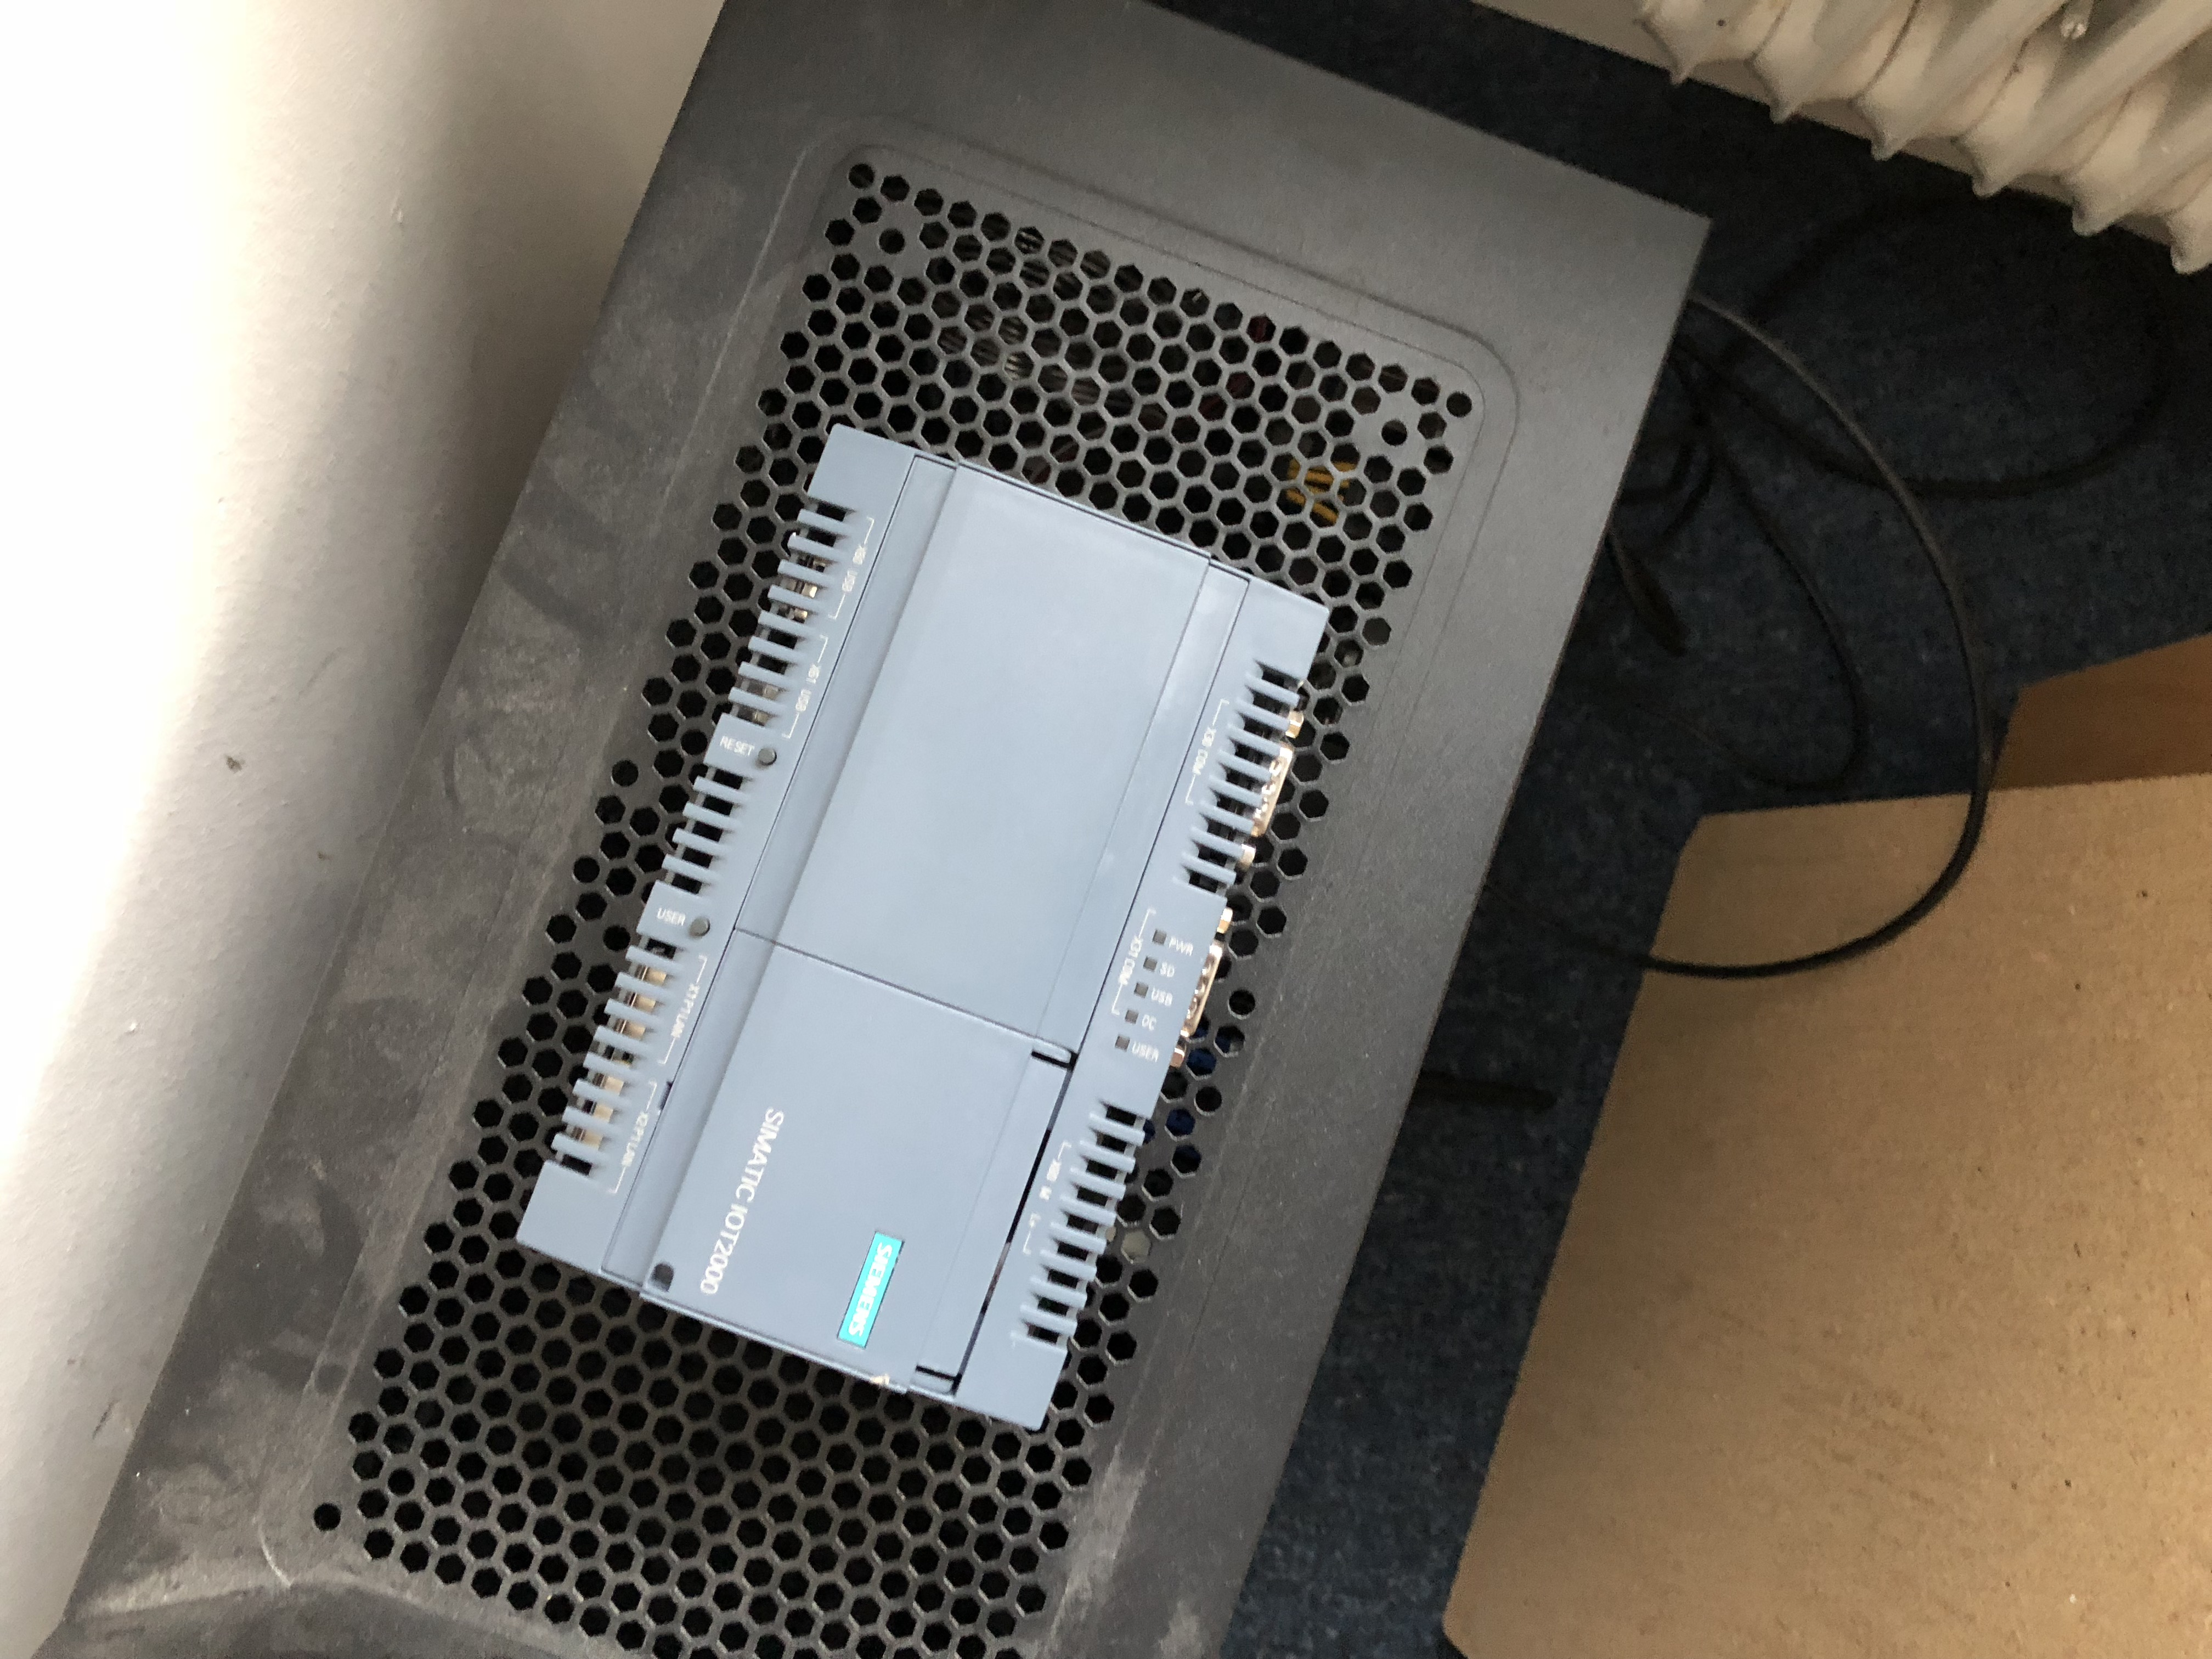device: (516, 422, 1331, 1431)
